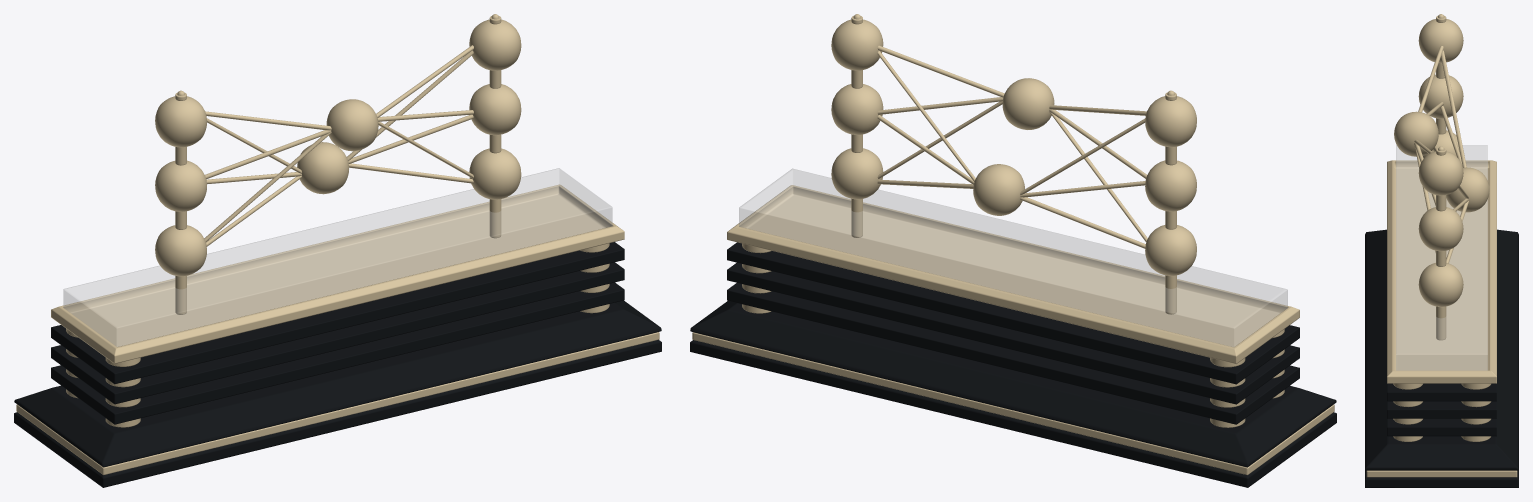
3 renders of one model, left to right at view 1: azimuth 30°, elevation 25°; view 2: azimuth 150°, elevation 25°; view 3: azimuth 270°, elevation 25°, orthographic. The views are drawn at different scales.
Parts seen in each view (by area): view 1: neural_network_statue_gold_object_neural_network_statue_gold, neural_network_statue_plastic_object_neural_network_statue_p, neural_network_statue_glass_object_neural_network_statue_gla; view 2: neural_network_statue_gold_object_neural_network_statue_gold, neural_network_statue_plastic_object_neural_network_statue_p, neural_network_statue_glass_object_neural_network_statue_gla; view 3: neural_network_statue_gold_object_neural_network_statue_gold, neural_network_statue_plastic_object_neural_network_statue_p, neural_network_statue_glass_object_neural_network_statue_gla.
Part boxes in pixels (x1,y1,x2,y2): neural_network_statue_gold_object_neural_network_statue_gold: [16, 14, 659, 474]; neural_network_statue_plastic_object_neural_network_statue_p: [14, 242, 661, 487]; neural_network_statue_glass_object_neural_network_statue_gla: [63, 168, 612, 346]; neural_network_statue_gold_object_neural_network_statue_gold: [692, 14, 1334, 474]; neural_network_statue_plastic_object_neural_network_statue_p: [690, 242, 1336, 487]; neural_network_statue_glass_object_neural_network_statue_gla: [739, 168, 1287, 346]; neural_network_statue_gold_object_neural_network_statue_gold: [1366, 14, 1517, 477]; neural_network_statue_plastic_object_neural_network_statue_p: [1365, 229, 1518, 487]; neural_network_statue_glass_object_neural_network_statue_gla: [1396, 145, 1487, 370].
Bounding box in the file's own units: 14.98 × 8.59 × 4.14.
